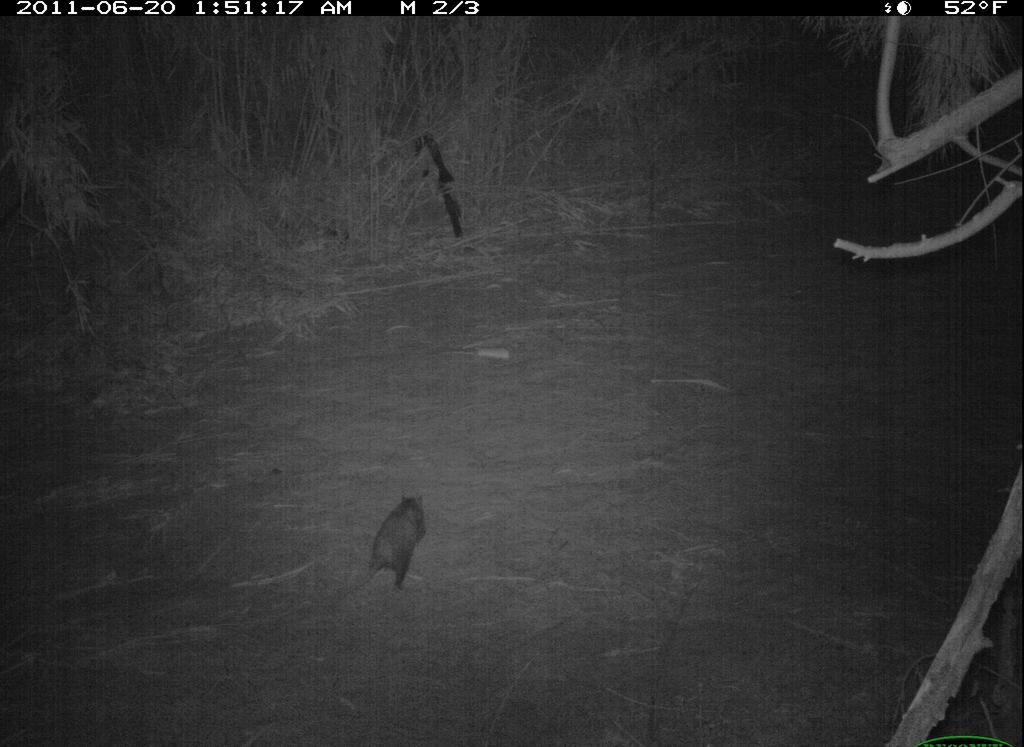opossum: (340, 491, 430, 609)
